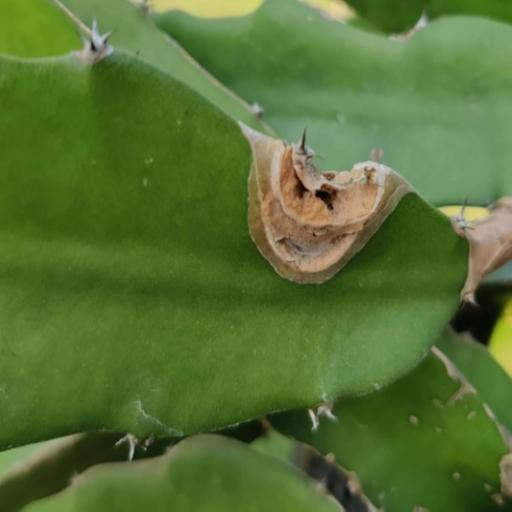stemcanker: (432, 416, 494, 512), (418, 355, 504, 416), (128, 135, 168, 212), (392, 393, 428, 445), (165, 112, 188, 125)
